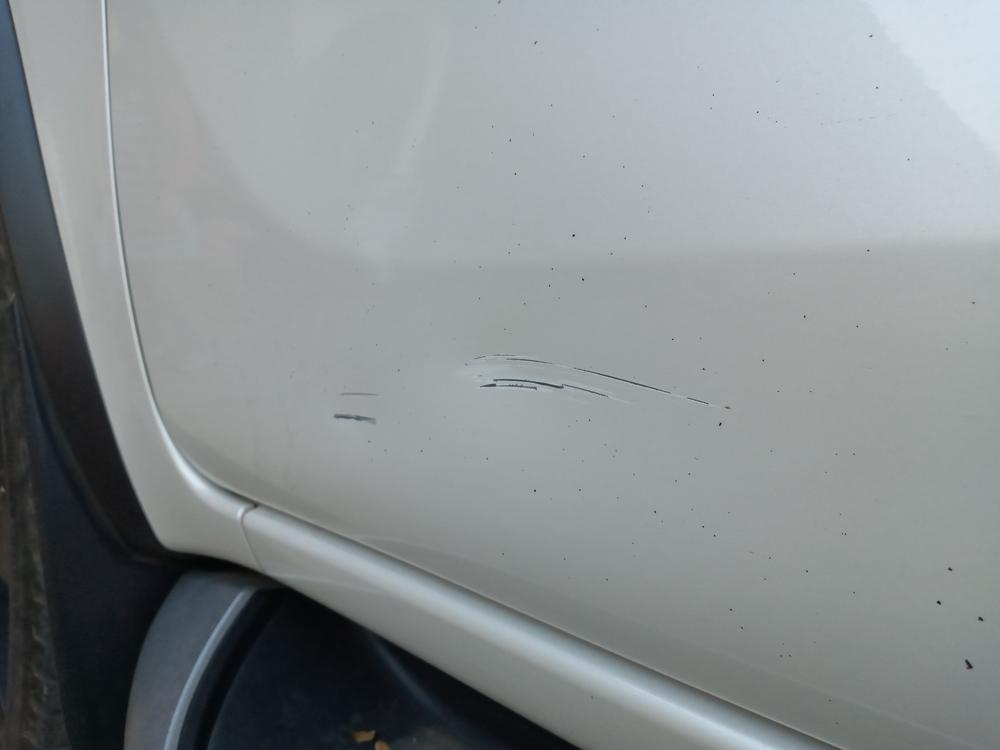scratch: (460, 340, 732, 415), (331, 383, 389, 428)
